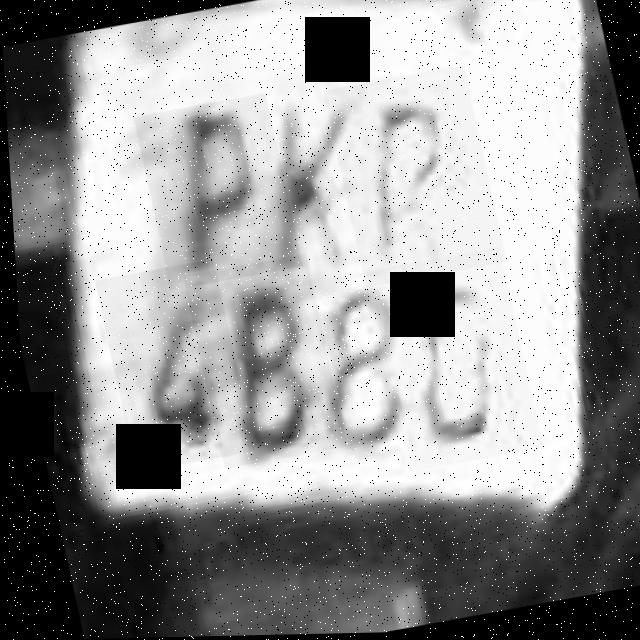0: (362, 248, 538, 474)
4: (91, 260, 250, 473)
8: (265, 254, 440, 476), (179, 254, 343, 470)
K: (215, 61, 404, 297)
P: (320, 66, 505, 289), (131, 93, 301, 291)
